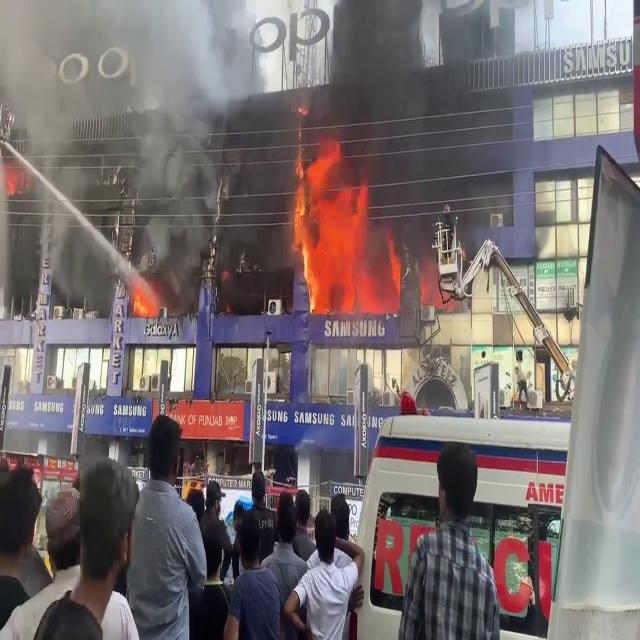Fire: (296, 126, 400, 316), (420, 254, 446, 312), (132, 278, 164, 319), (6, 164, 25, 196)
Smoke: (331, 0, 462, 145), (137, 90, 222, 264), (9, 21, 93, 172)
